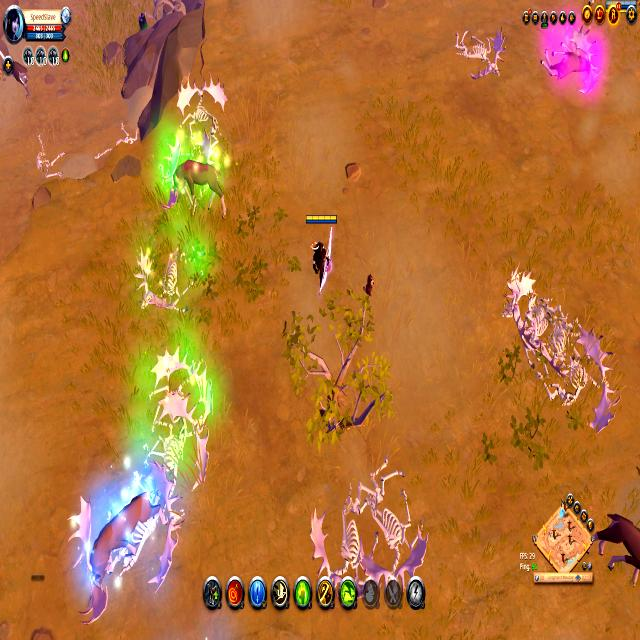mob: (537, 37, 598, 93)
ore: (73, 480, 164, 620), (163, 153, 231, 225), (592, 503, 640, 590)
red: (305, 211, 337, 292)
